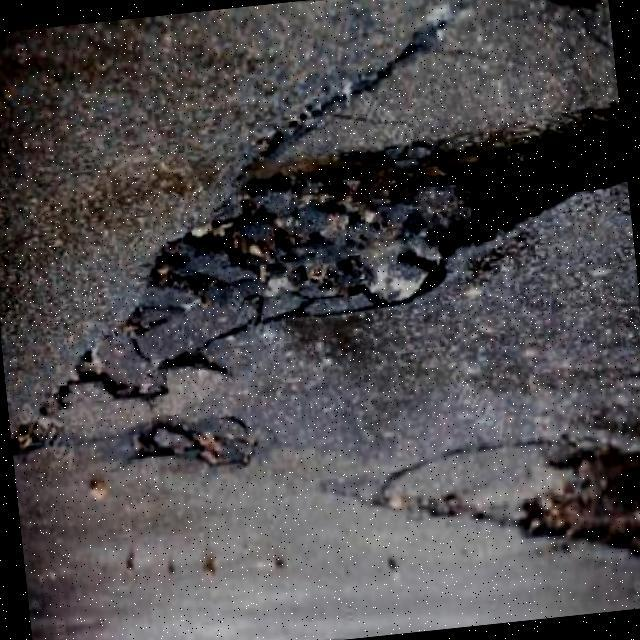Pothole: (150, 103, 626, 323)
